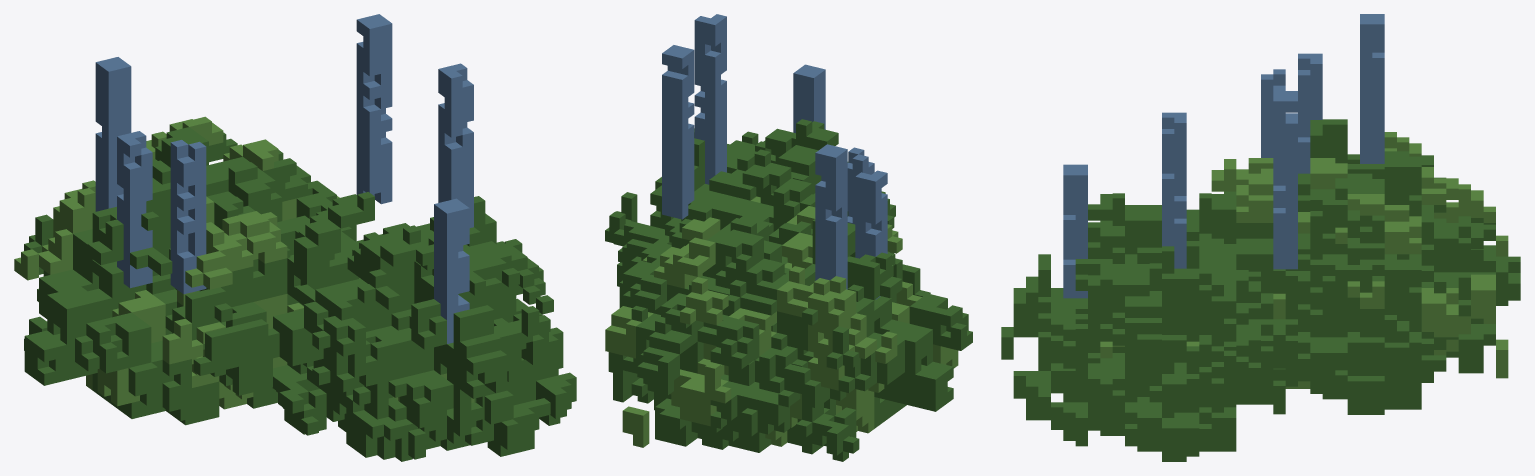
Rendered from bush_island_2.obj.
3 views of the same model, side by side, from view 1: azimuth 30°, elevation 25°; view 2: azimuth 150°, elevation 25°; view 3: azimuth 270°, elevation 25° (orthographic). The views are drawn at different scales.
Bounding box in the file's own units: 0.95 × 0.7 × 1.05.
Materials: 1 (1 with a texture image).
